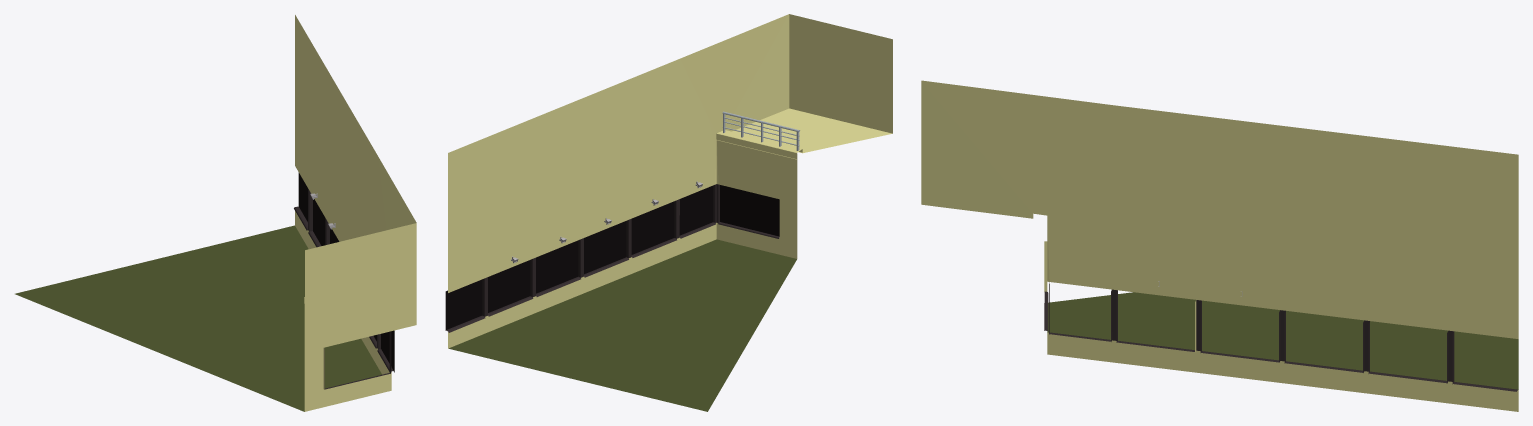
The model's file is Garden.fbx.
The picture shows the model from 3 angles, left to right: view 1: azimuth 30°, elevation 25°; view 2: azimuth 150°, elevation 25°; view 3: azimuth 270°, elevation 25°; orthographic projection. The views are drawn at different scales.
Parts seen in each view (by area): view 1: Yard; view 2: Yard; view 3: Yard.
Boxes of the visible parts, left/top/right/bottom form: Yard: left=15, top=15, right=416, bottom=411; Yard: left=445, top=14, right=892, bottom=411; Yard: left=921, top=80, right=1518, bottom=411.
Bounding box in the file's own units: 3651 × 2600 × 5452.
